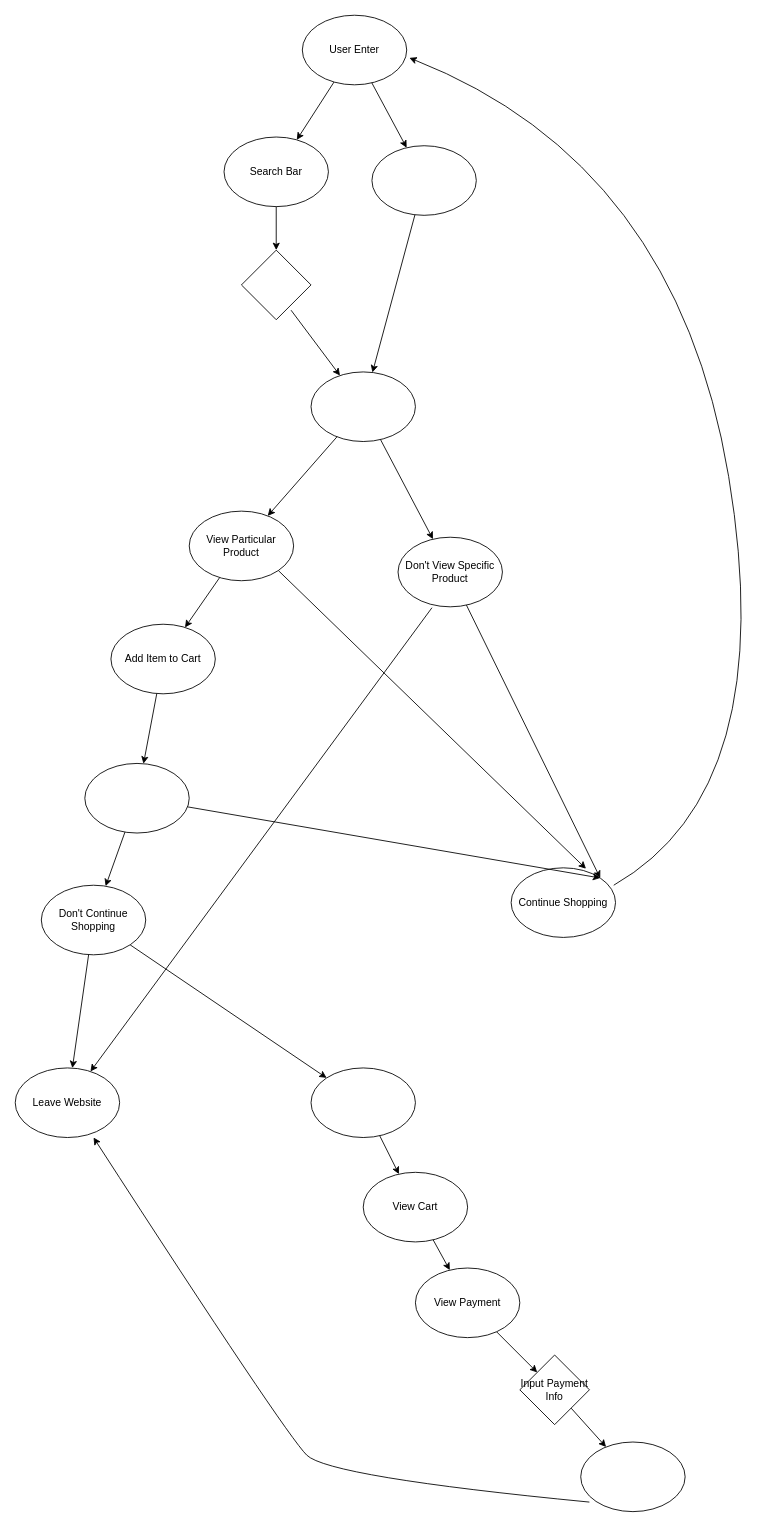
Some shapes in this 757 by 1527 pixel diagram are drawn without their labels. The shapes that lost their labels are listed below. From the top down, each one's centre as x and y in pixels, then its label:
At point (423, 180): "Home Page".
At point (276, 284): "Input Search".
At point (362, 406): "Look over Products".
At point (136, 798): "Add to Cart Confirmation".
At point (362, 1102): "Checkout".
At point (632, 1476): "Recieve Confirmation and Email".
